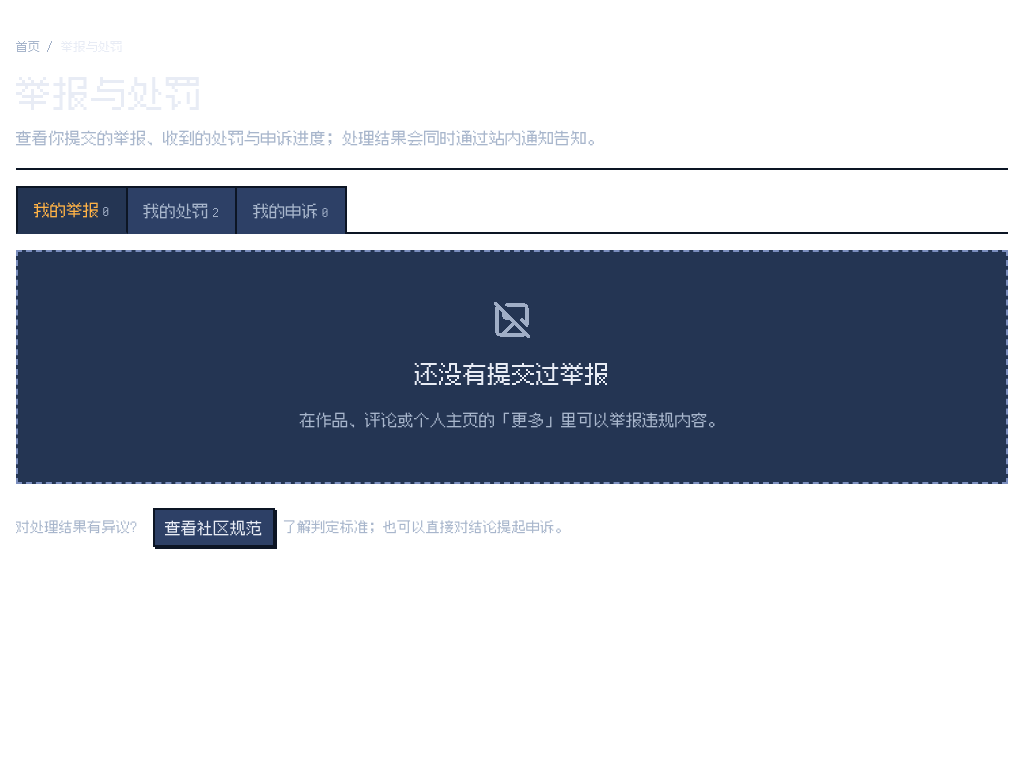
Test case: MeModerationPage › 处罚 Tab：显示期限与撤销提示，生效中可申诉
Click the tab "我的处罚2": (181, 210) [126,186,237,234]
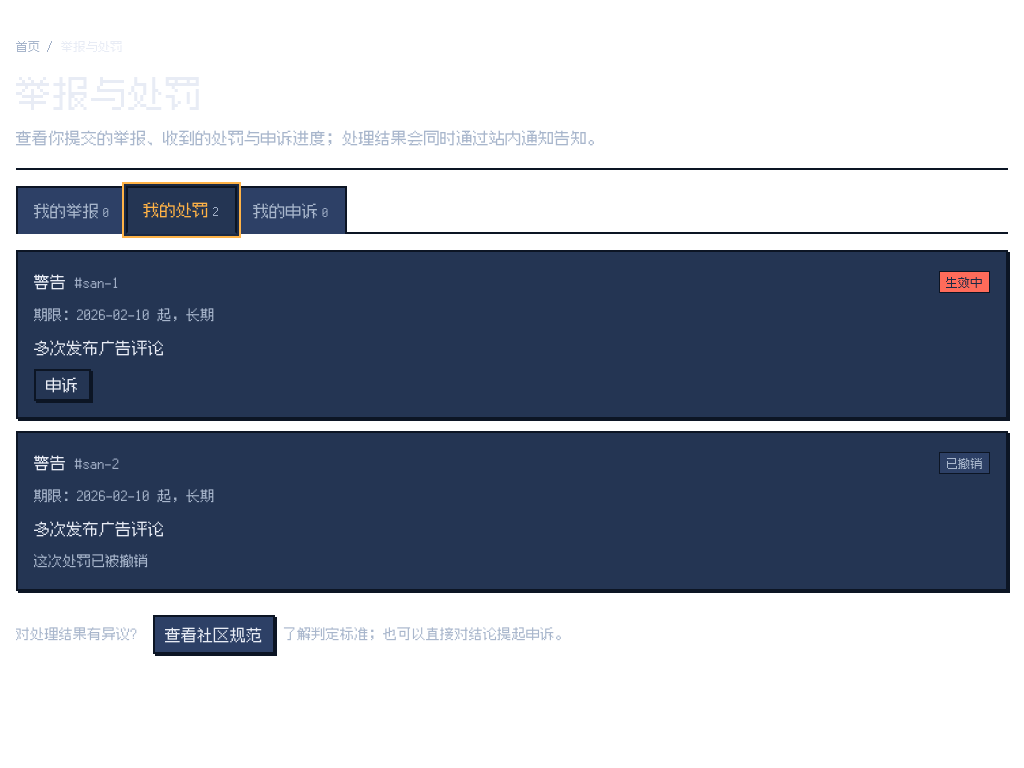
Now the text "警告" is shown 2 times, box [34,268,120,296]; [34,449,120,477]
Now the text "生效中" is shown, box [939,271,990,293]
Now the text "这次处罚已被撤销" is shown, box [34,550,149,572]
